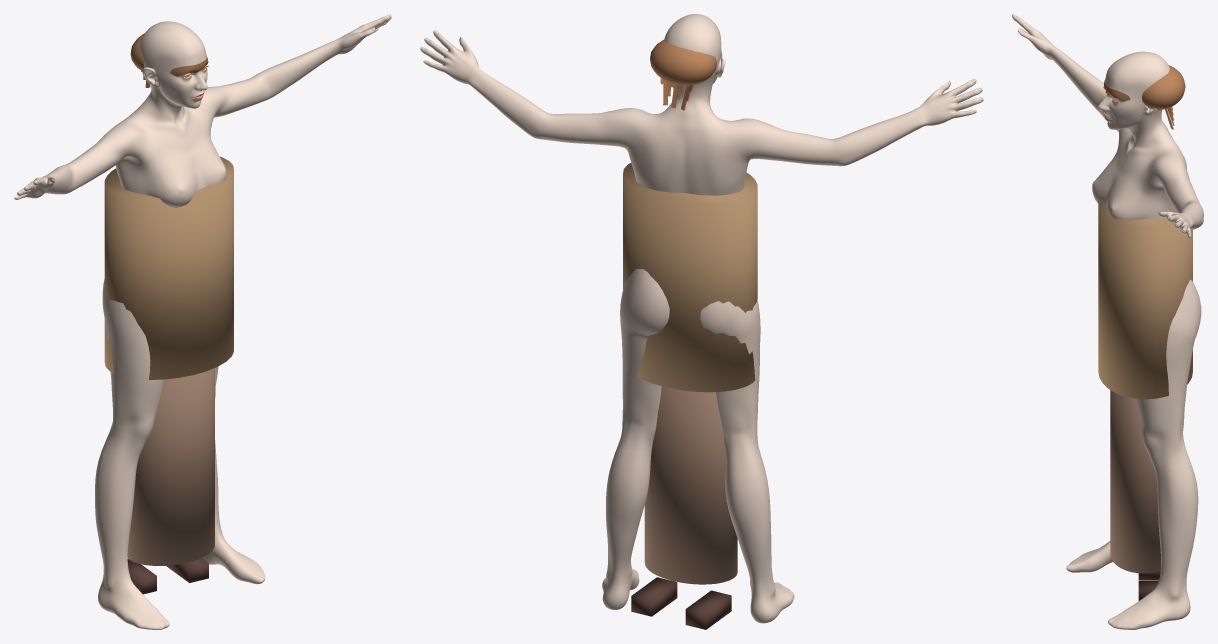
Rendered from hm_ped_ivy_v12.glb.
3 renders of one model, left to right at view 1: azimuth 30°, elevation 25°; view 2: azimuth 150°, elevation 25°; view 3: azimuth 270°, elevation 25°, orthographic. The views are drawn at different scales.
Parts seen in each view (by area): view 1: hm_ped_ivy; view 2: hm_ped_ivy; view 3: hm_ped_ivy.
Boxes of the visible parts, box(x1,y1,x2,y2) form: hm_ped_ivy: box(14, 14, 391, 629); hm_ped_ivy: box(420, 14, 983, 629); hm_ped_ivy: box(1012, 14, 1203, 629).
Size of the model in its own units: 1.4 by 1.66 by 0.5367.
